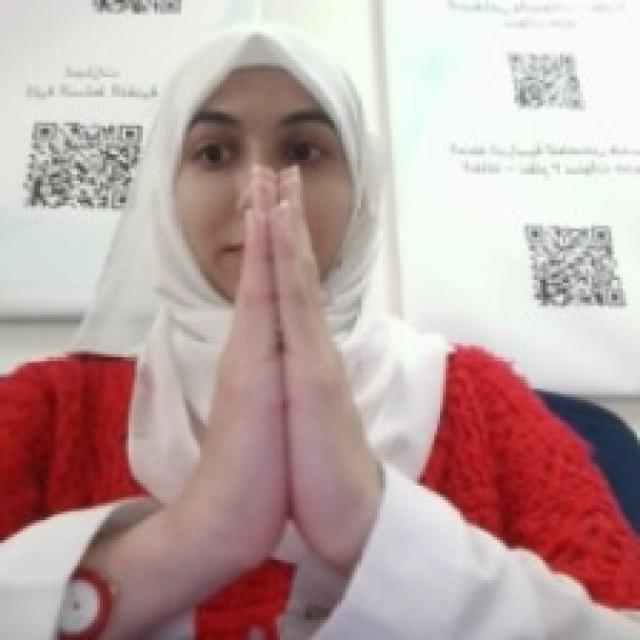sorry: (200, 183, 371, 574)
